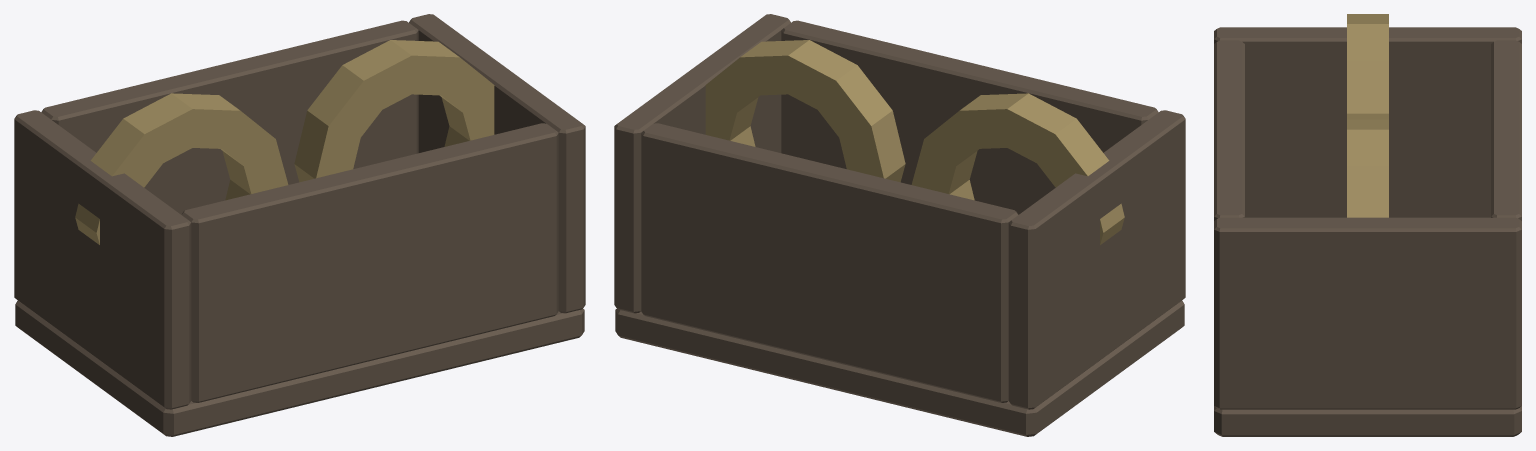
File: instrument-crate.glb
3 views of the same model, side by side, from view 1: azimuth 30°, elevation 25°; view 2: azimuth 150°, elevation 25°; view 3: azimuth 270°, elevation 25° (orthographic).
Visible parts, largest first — view 1: instrument-crate__body; view 2: instrument-crate__body; view 3: instrument-crate__body.
Part boxes in pixels (box(x1,y1,x2,y2)): instrument-crate__body: box(14, 14, 585, 436); instrument-crate__body: box(614, 14, 1185, 436); instrument-crate__body: box(1214, 14, 1521, 436).
Size of the model in its own units: 1.26 by 0.735 by 0.8.
